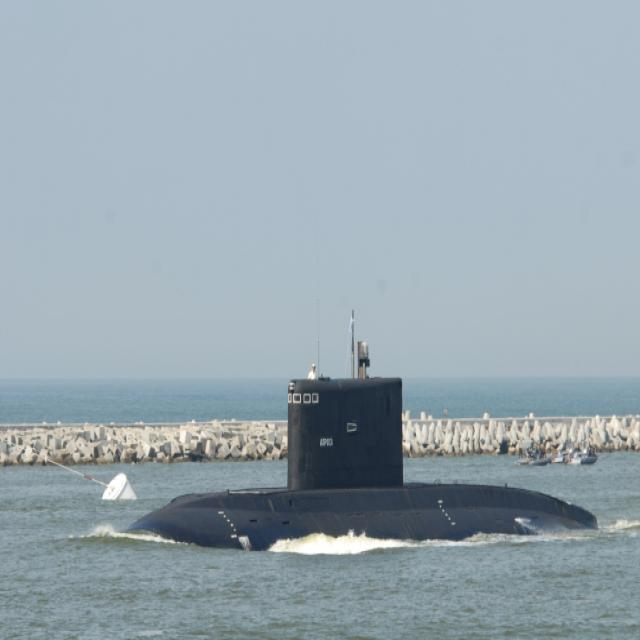submarine: (111, 299, 640, 559)
